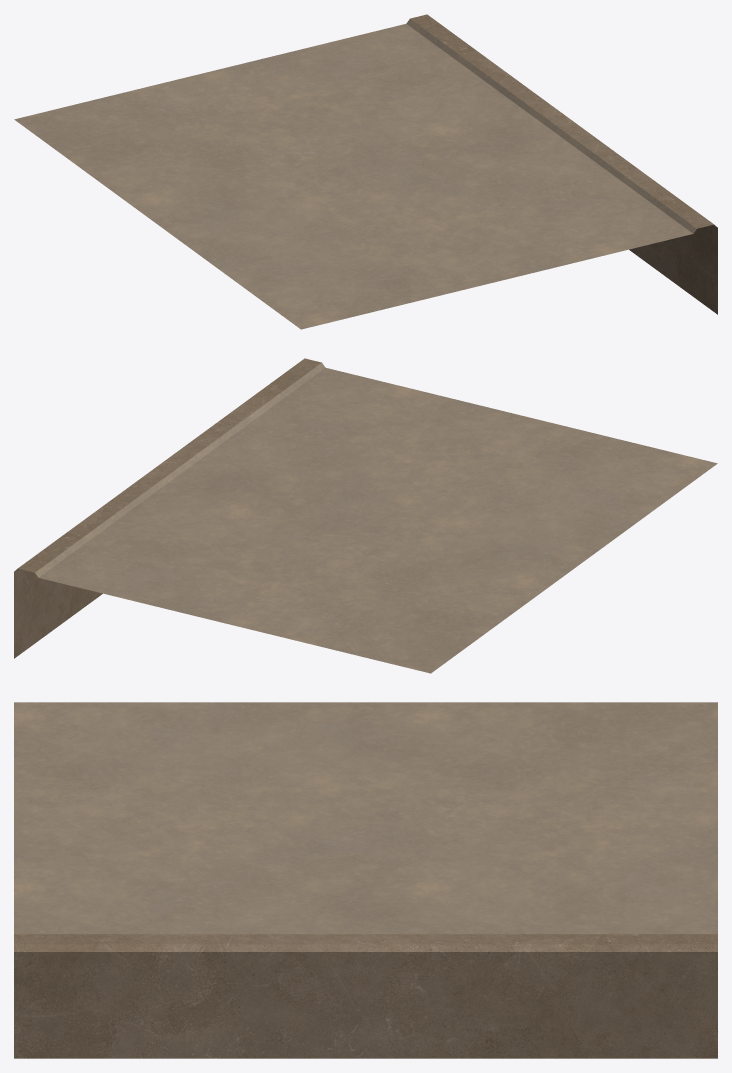
File: Trottoir_1.1.fbx
3 renders of one model, top to bottom at view 1: azimuth 30°, elevation 25°; view 2: azimuth 150°, elevation 25°; view 3: azimuth 270°, elevation 25°, orthographic. The views are drawn at different scales.
Parts seen in each view (by area): view 1: Trottoir_1.1; view 2: Trottoir_1.1; view 3: Trottoir_1.1.
Part boxes in pixels (x1,y1,x2,y2): Trottoir_1.1: (14, 14, 717, 329); Trottoir_1.1: (14, 358, 717, 673); Trottoir_1.1: (14, 702, 717, 1058).
Size of the model in its own units: 1821 by 381 by 2172.
